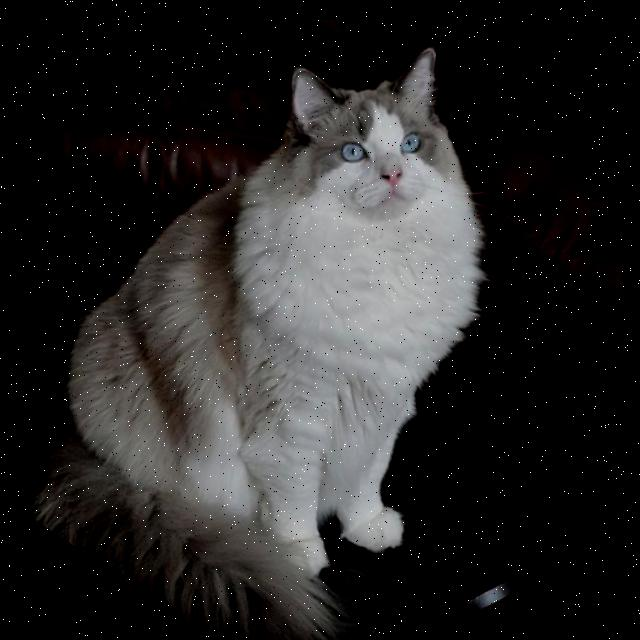Ragdoll: (0, 1, 547, 640)
